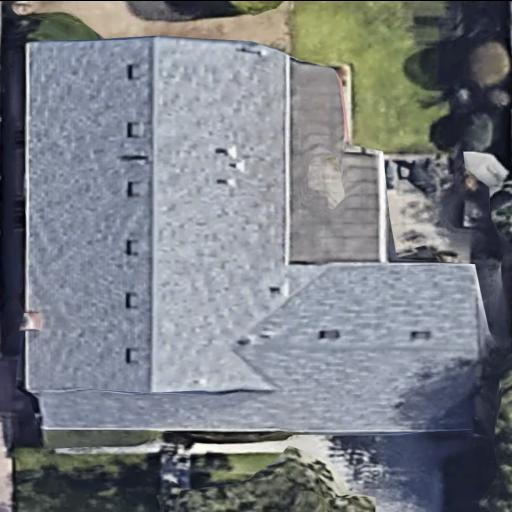Slope-Roof: (26, 35, 482, 430)
